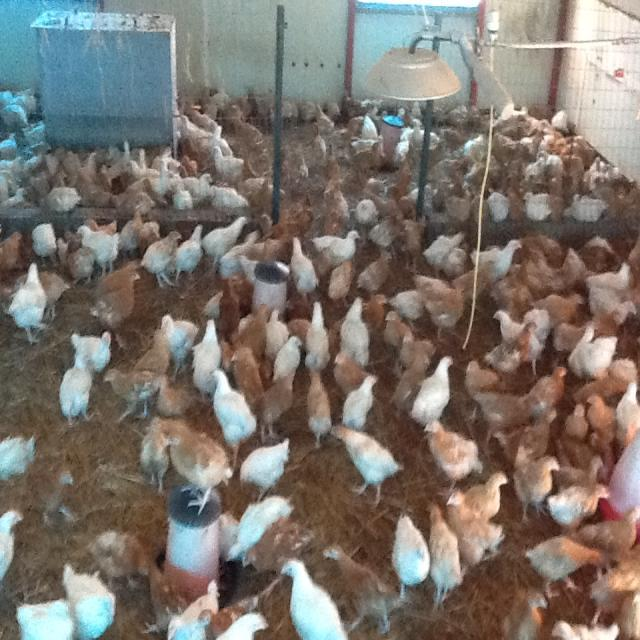poussin: (324, 543, 406, 636), (329, 423, 404, 506), (164, 422, 233, 512), (280, 556, 346, 640), (444, 490, 502, 580), (366, 182, 423, 272), (526, 534, 602, 600), (212, 369, 258, 468), (226, 498, 294, 564), (60, 563, 118, 640), (242, 519, 316, 577), (92, 266, 144, 348), (238, 434, 296, 504), (588, 547, 640, 625), (510, 447, 562, 522), (87, 532, 153, 590), (424, 420, 482, 486), (495, 404, 560, 462), (392, 512, 432, 605), (223, 223, 288, 279), (101, 368, 166, 422), (492, 308, 546, 373), (429, 503, 462, 608), (411, 354, 457, 428), (575, 506, 640, 558), (482, 322, 538, 382), (167, 585, 227, 640), (146, 569, 192, 640), (474, 392, 536, 444), (548, 482, 613, 530), (8, 262, 43, 348), (199, 596, 267, 640), (12, 270, 70, 321), (414, 272, 466, 328), (160, 310, 200, 382), (256, 370, 296, 442), (12, 594, 74, 640), (568, 324, 620, 378), (198, 216, 248, 272), (529, 248, 592, 292), (141, 226, 184, 289), (191, 317, 224, 399), (58, 349, 92, 427), (504, 584, 550, 640), (525, 364, 572, 418), (230, 104, 266, 174), (393, 350, 433, 412), (227, 343, 264, 408), (140, 416, 170, 496), (464, 360, 504, 420), (0, 431, 39, 489), (349, 114, 387, 173), (76, 226, 122, 274), (462, 472, 510, 518), (339, 297, 372, 362), (206, 278, 244, 334), (312, 227, 361, 270), (135, 323, 170, 383), (494, 262, 534, 314), (232, 306, 269, 362), (591, 286, 637, 330), (343, 373, 378, 429), (290, 236, 318, 306), (552, 454, 604, 491), (0, 506, 25, 582), (71, 328, 115, 371), (173, 225, 206, 282), (308, 370, 332, 448), (333, 350, 372, 398), (472, 238, 521, 276), (549, 615, 623, 640), (304, 304, 328, 374), (424, 233, 467, 272), (402, 324, 434, 374), (467, 156, 514, 190), (238, 177, 284, 210), (357, 251, 392, 294), (272, 334, 304, 381), (588, 394, 618, 444), (616, 382, 640, 444), (531, 296, 584, 324), (584, 156, 622, 195), (324, 176, 349, 235), (134, 144, 166, 188), (328, 256, 356, 306), (46, 146, 80, 187), (0, 136, 26, 189), (456, 260, 494, 296), (590, 263, 630, 296), (121, 180, 162, 212), (32, 222, 58, 272), (210, 146, 246, 181), (266, 305, 288, 360), (64, 247, 96, 284), (0, 227, 24, 275), (45, 182, 86, 210), (118, 214, 144, 258), (562, 152, 588, 196), (358, 291, 386, 331), (446, 180, 474, 220), (569, 194, 610, 221), (384, 309, 412, 348), (303, 102, 335, 136), (28, 147, 46, 207), (126, 160, 164, 188), (290, 149, 311, 199), (179, 114, 209, 148), (496, 130, 532, 158), (210, 184, 250, 209), (391, 289, 424, 319), (190, 105, 223, 134), (156, 157, 180, 196), (270, 96, 302, 125), (410, 116, 438, 149), (308, 122, 326, 173), (76, 145, 100, 183), (564, 404, 590, 439), (10, 86, 39, 116), (523, 190, 550, 222), (180, 172, 213, 198), (552, 133, 586, 158), (137, 221, 162, 253), (526, 119, 550, 152), (511, 157, 539, 185), (0, 103, 31, 128), (537, 152, 561, 184), (464, 132, 488, 164), (210, 125, 232, 157), (178, 154, 203, 182), (1, 186, 30, 210), (95, 164, 114, 200), (510, 106, 530, 140), (488, 190, 508, 223), (394, 134, 414, 167), (446, 104, 471, 130), (326, 143, 341, 182), (354, 198, 376, 224), (508, 190, 525, 223), (174, 181, 194, 207), (554, 107, 570, 138), (358, 98, 383, 116), (472, 194, 488, 222), (408, 98, 428, 120), (466, 102, 482, 128), (552, 188, 564, 222), (323, 99, 341, 120)
